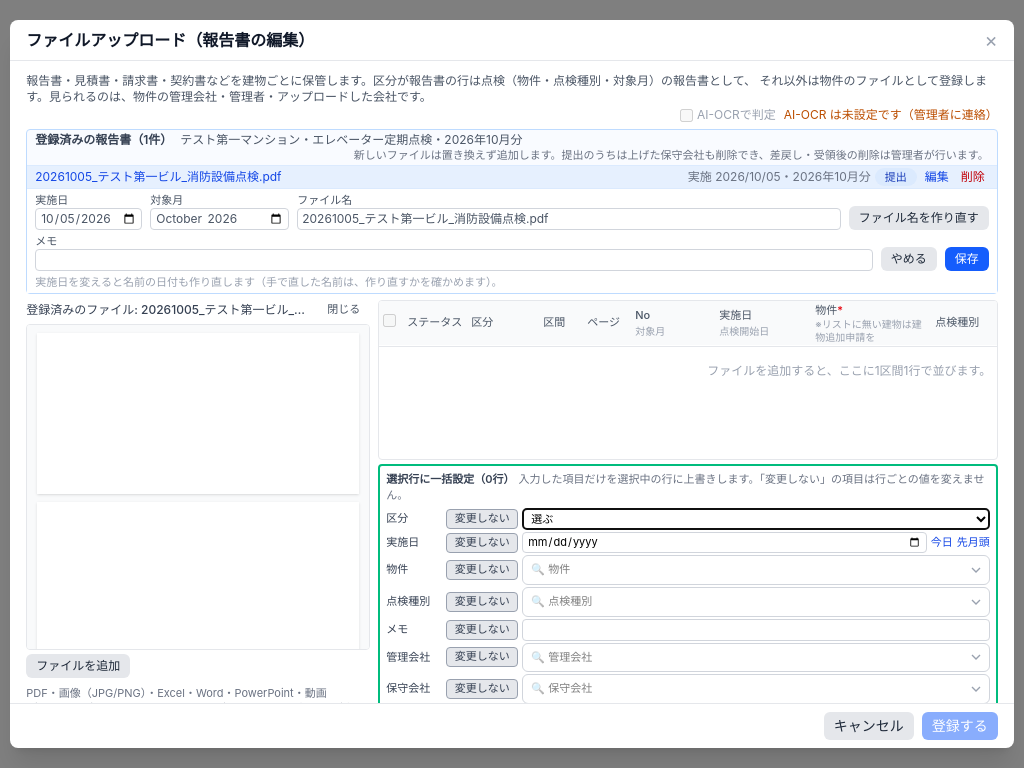
Test case: FileUploadModal（修正依頼1029(1) ファイルのアップロード画面の統一） › 登録済みの報告書の編集欄に入力したままのキャンセルも、破棄の確認を出す
Type "直しかけ" into the field named "報告書のメモ" at (454, 260), box [35,249,873,271]
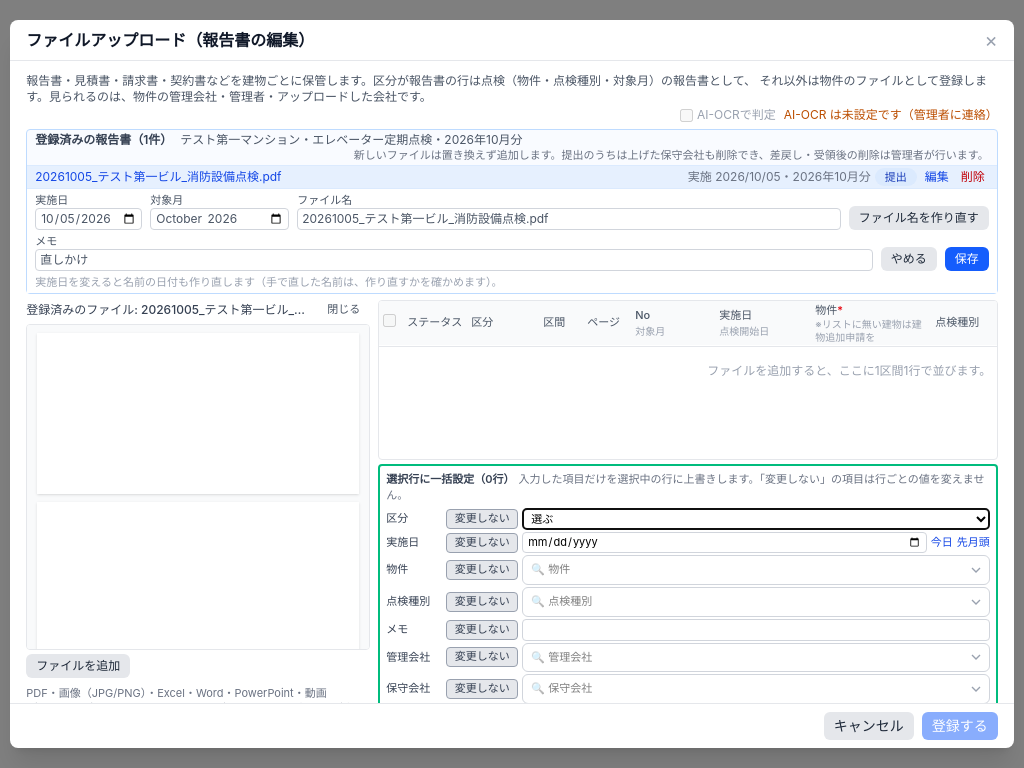
Click the button "キャンセル" at (869, 726), box [824,712,914,740]
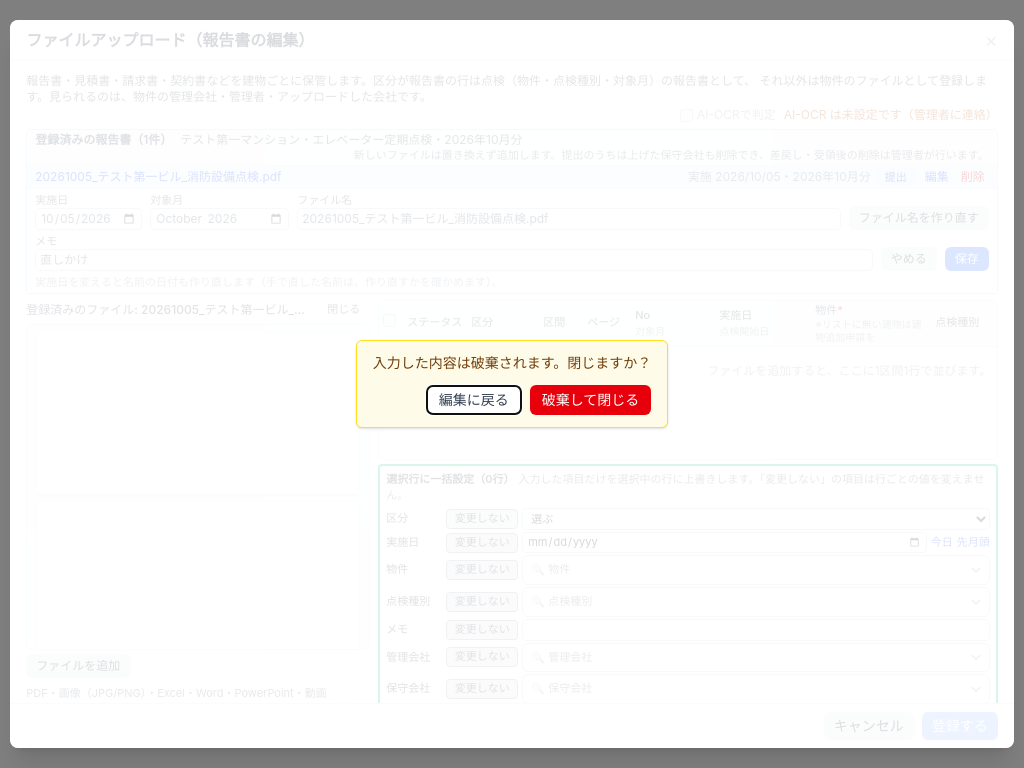
Now the text "入力した内容は破棄されます。閉じますか？" is shown, box [373,353,651,373]
